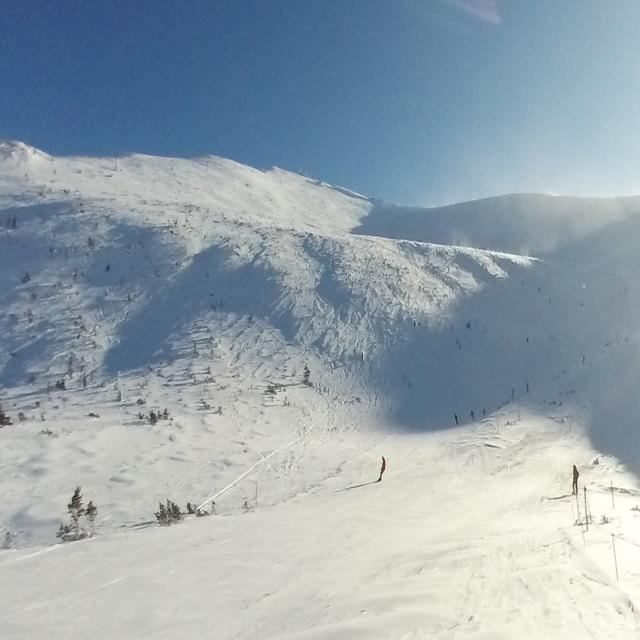Kasprowy Wierch: (197, 69, 382, 269)
